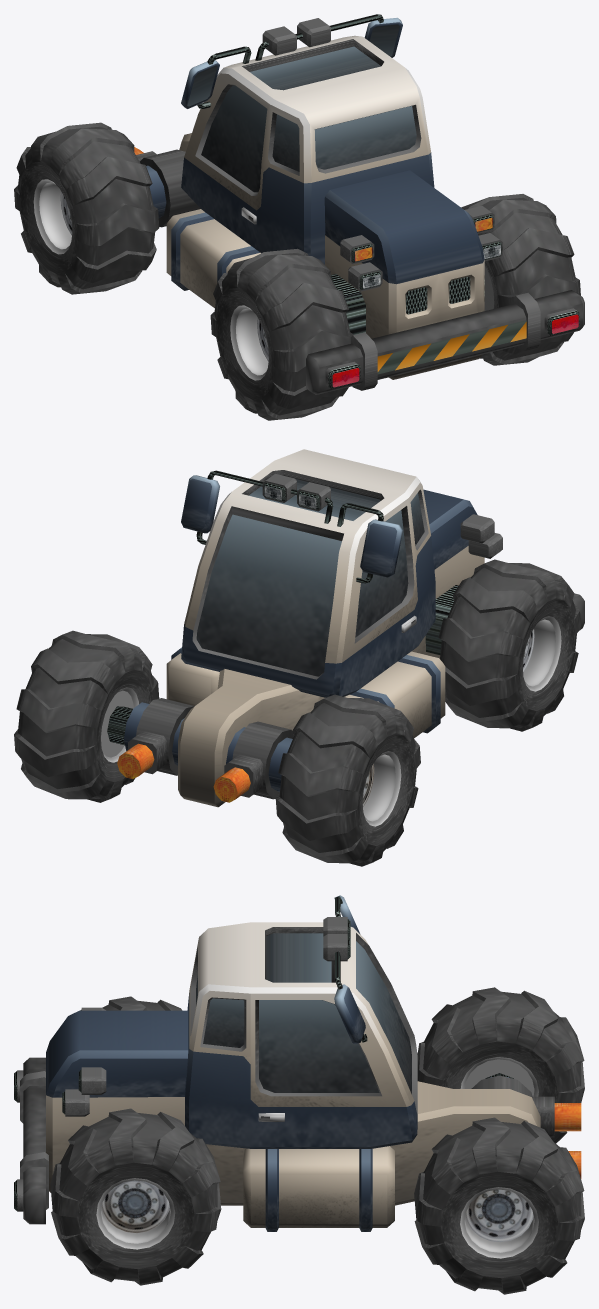
File: VHC0110020.FBX
The picture shows the model from 3 angles, top to bottom: view 1: azimuth 30°, elevation 25°; view 2: azimuth 150°, elevation 25°; view 3: azimuth 270°, elevation 25°; orthographic projection.
Visible parts, largest first — view 1: smVHC0110020; view 2: smVHC0110020; view 3: smVHC0110020.
Boxes of the visible parts, x1=… form: smVHC0110020: x1=14, y1=14, x2=584, y2=420; smVHC0110020: x1=14, y1=449, x2=584, y2=866; smVHC0110020: x1=14, y1=895, x2=584, y2=1294.
Size of the model in its own units: 372 by 298 by 534.
Materials: 1 (1 with a texture image).
